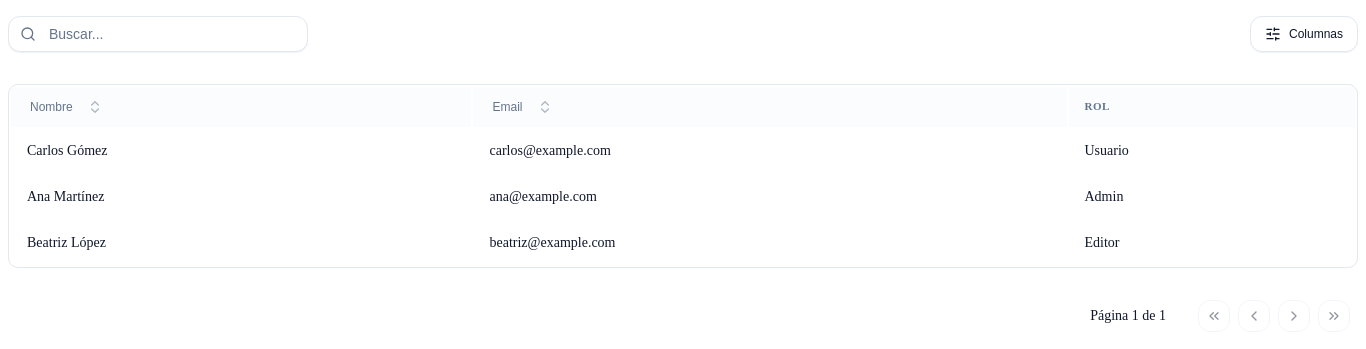
it: DataTable Component › filters visible rows when searching
Check: the text "Carlos Gómez" is shown, box [11,129,472,173]
Check: the text "Ana Martínez" is shown, box [11,175,472,219]
Type query
Type "Ana" into the field with placeholder "Buscar...". click: (158, 34)
box: [8,16,308,52]
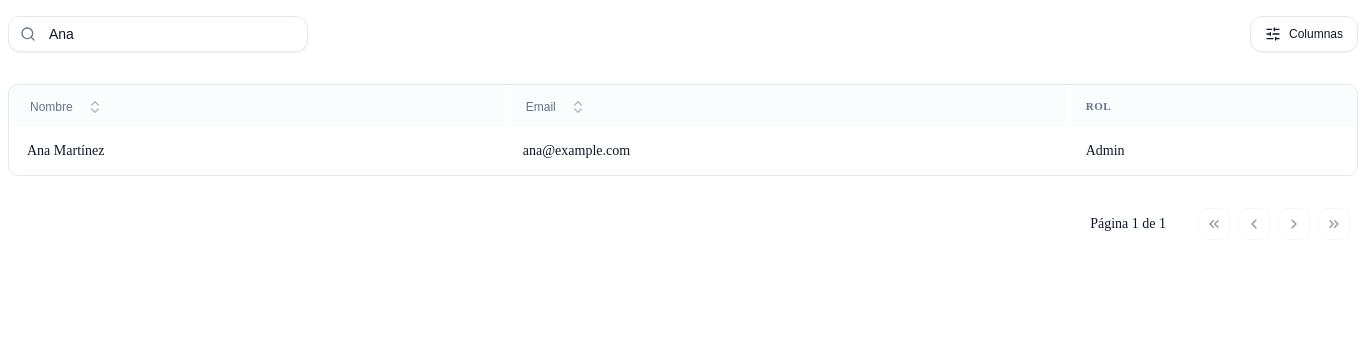
Check: the text "Ana Martínez" is shown, box [11,129,505,173]
Check: the text "Carlos Gómez" is gone
Check: the text "Beatriz López" is gone
Clear search
Clear the field with placeholder "Buscar...". click: (158, 34)
box: [8,16,308,52]
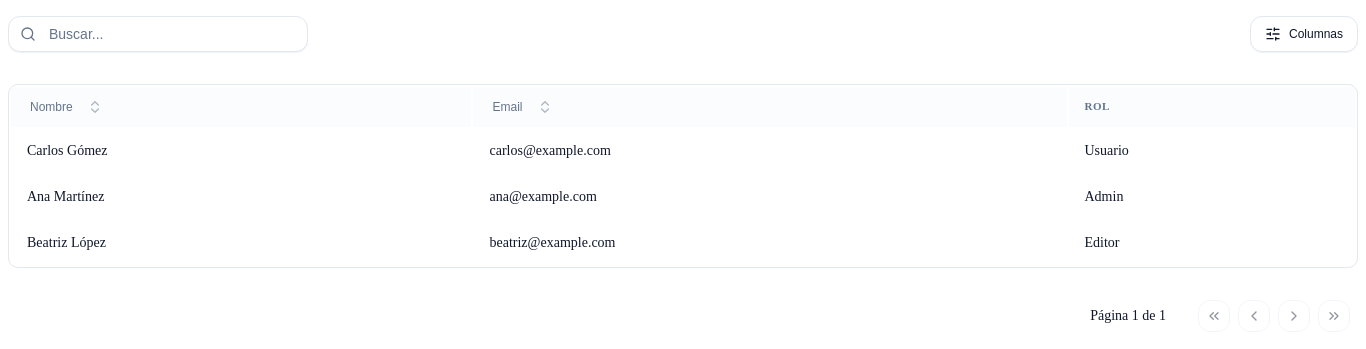
Check: the text "Ana Martínez" is shown, box [11,175,472,219]
Check: the text "Carlos Gómez" is shown, box [11,129,472,173]
Check: the text "Beatriz López" is shown, box [11,221,472,265]
